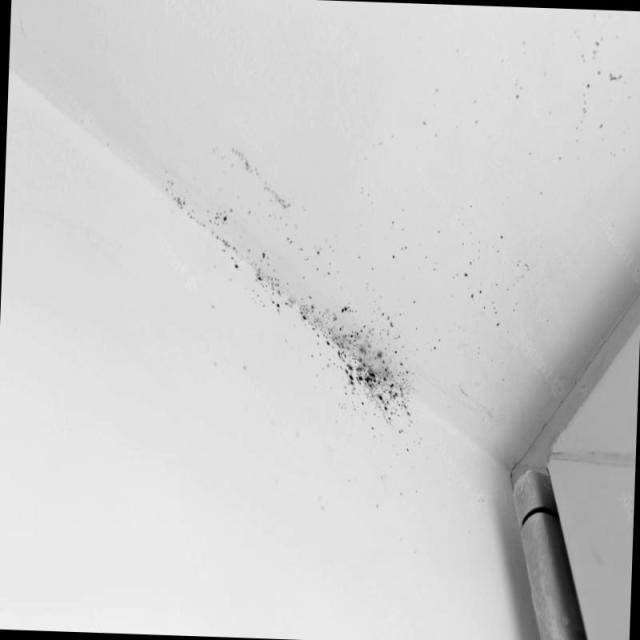stain marks: (132, 119, 549, 455)
